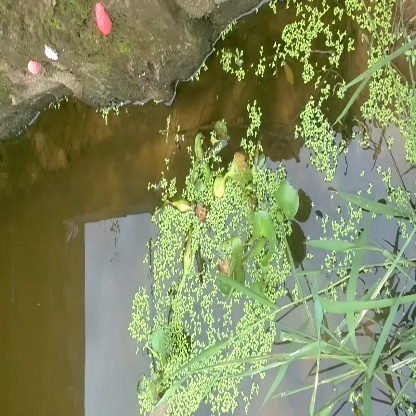leaf: (273, 171, 305, 222)
